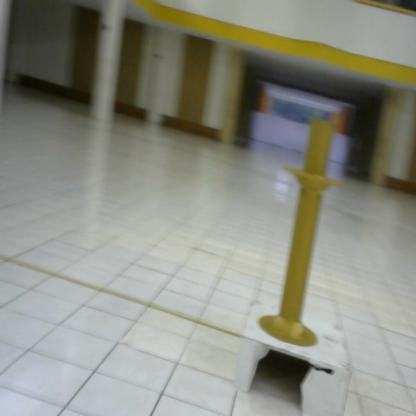pole: (248, 101, 357, 364)
